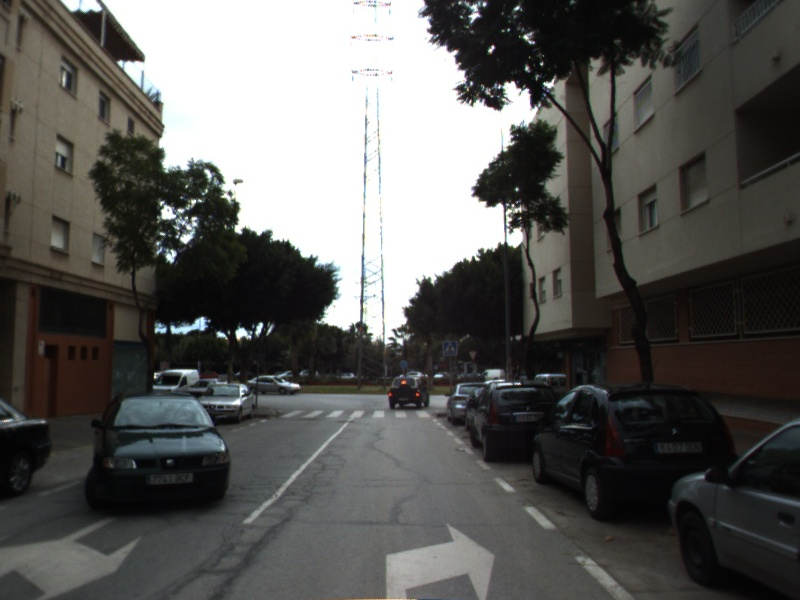RIGHT: (380, 518, 499, 600)
